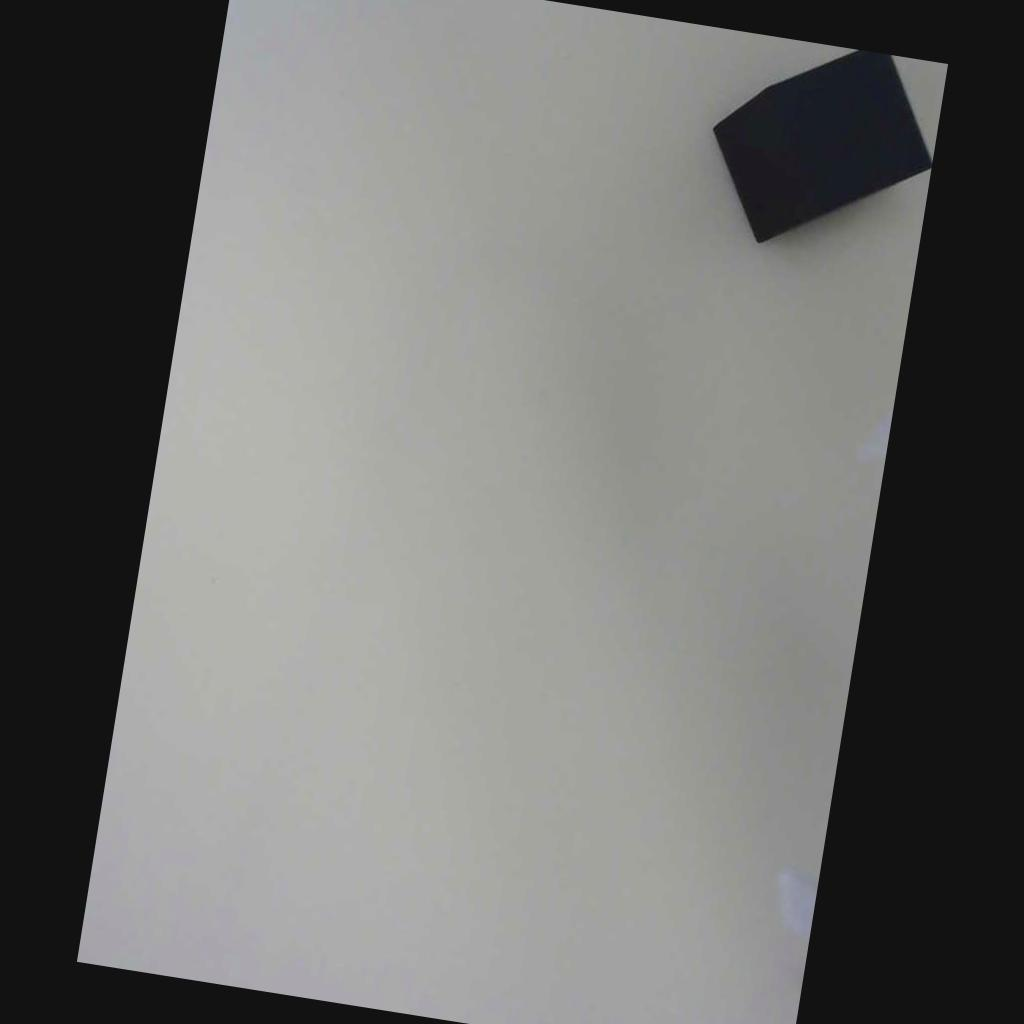square: (660, 12, 952, 280)
